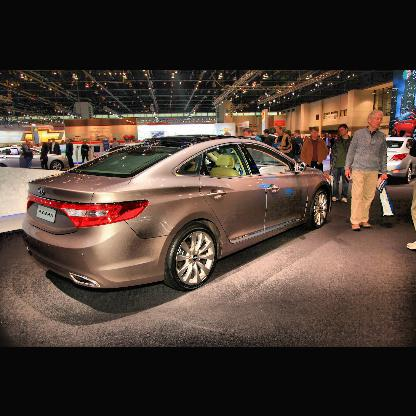Hyundai Azera Sedan 2012: (24, 136, 336, 291)
